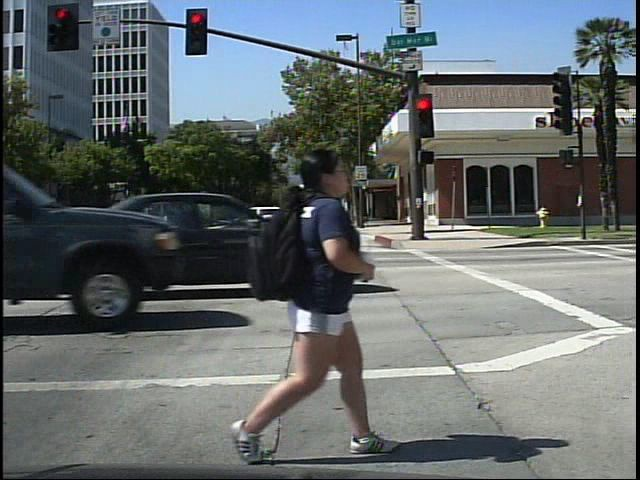person: (244, 131, 379, 465)
